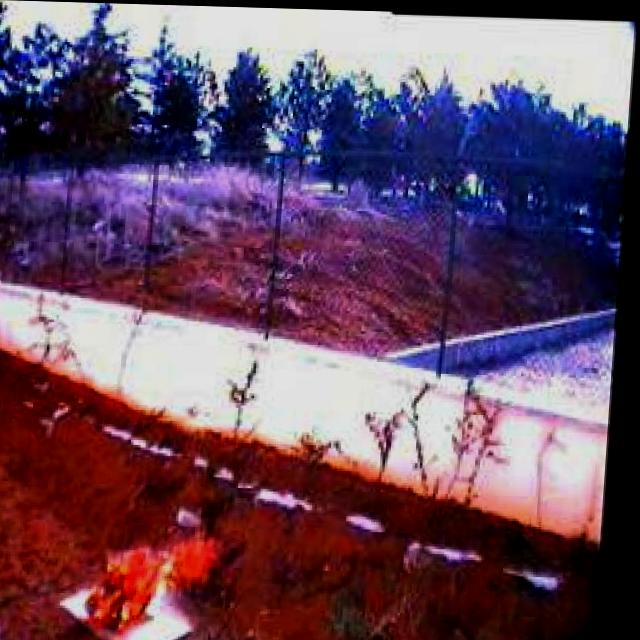Fire: (90, 528, 231, 636)
